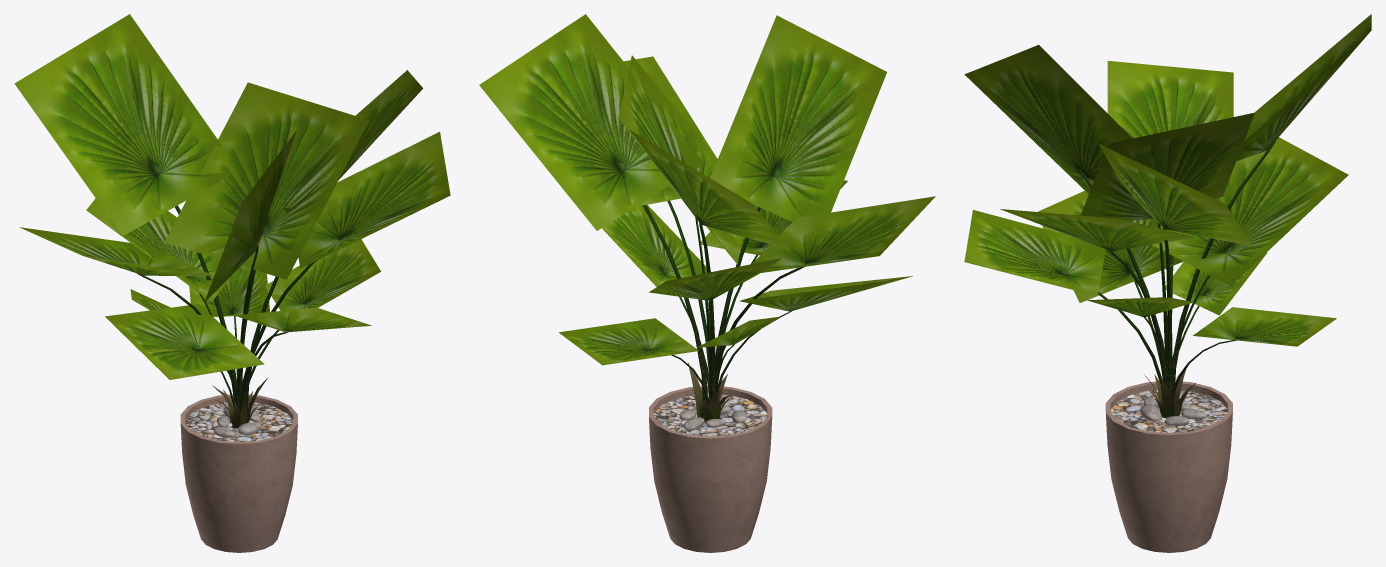
Rendered from Plant01.fbx.
The picture shows the model from 3 angles, left to right: view 1: azimuth 30°, elevation 25°; view 2: azimuth 150°, elevation 25°; view 3: azimuth 270°, elevation 25°; orthographic projection. The views are drawn at different scales.
Visible parts, largest first — view 1: Plant01_LOD0; view 2: Plant01_LOD0; view 3: Plant01_LOD0.
Boxes of the visible parts, bbox=[...] form: Plant01_LOD0: bbox=[14, 14, 450, 552]; Plant01_LOD0: bbox=[479, 14, 935, 552]; Plant01_LOD0: bbox=[964, 14, 1371, 552].
Size of what is drawn, in the model's own units: 154 by 175 by 130.
